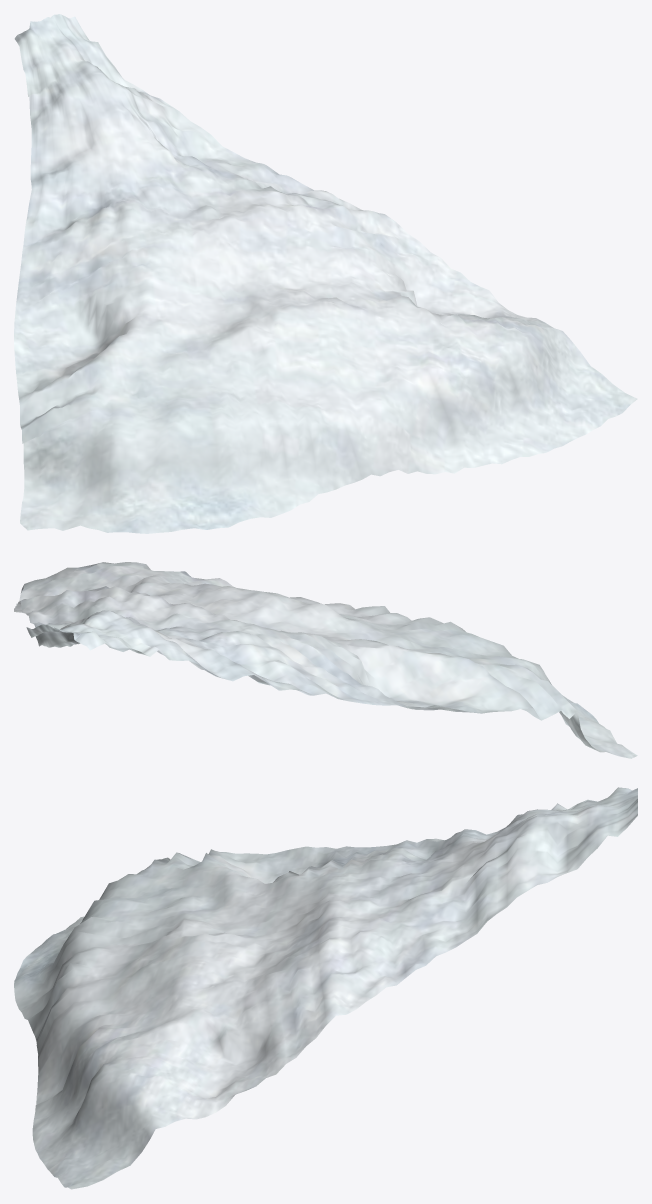
File: avalange.dae
3 views of the same model, one above another, from view 1: azimuth 30°, elevation 25°; view 2: azimuth 150°, elevation 25°; view 3: azimuth 270°, elevation 25° (orthographic). The views are drawn at different scales.
Visible parts, largest first — view 1: Plane; view 2: Plane; view 3: Plane.
Part boxes in pixels (bbox=[...]): Plane: bbox=[14, 14, 637, 533]; Plane: bbox=[14, 562, 637, 758]; Plane: bbox=[14, 787, 637, 1189].
Bounding box in the file's own units: 197 × 181 × 83.08.
1 material, 1 textured.
